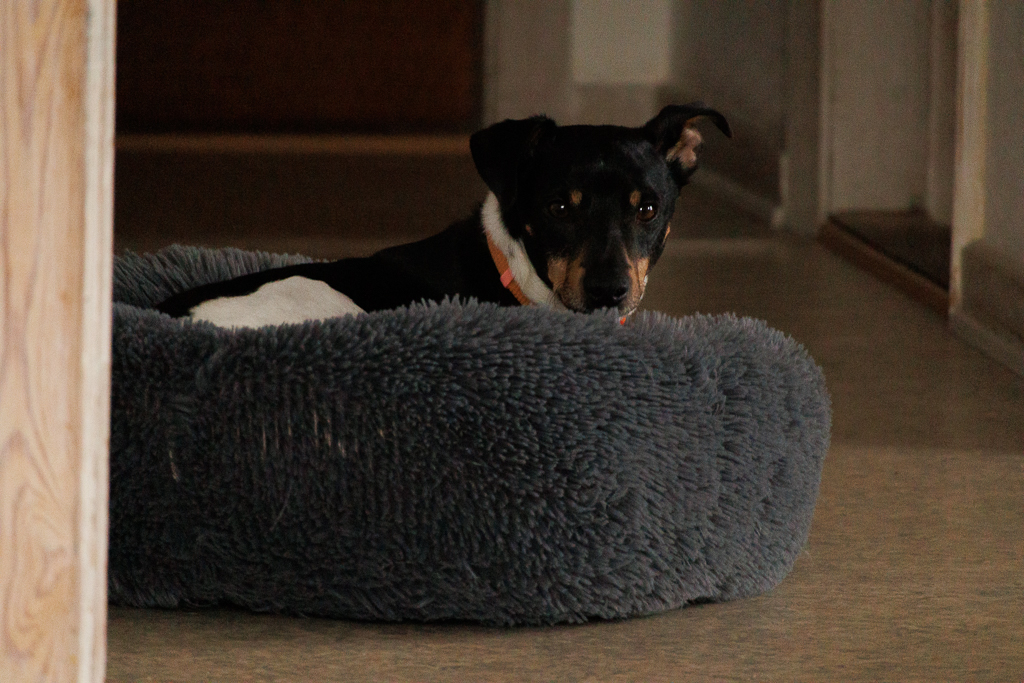Dog: (117, 94, 739, 347)
